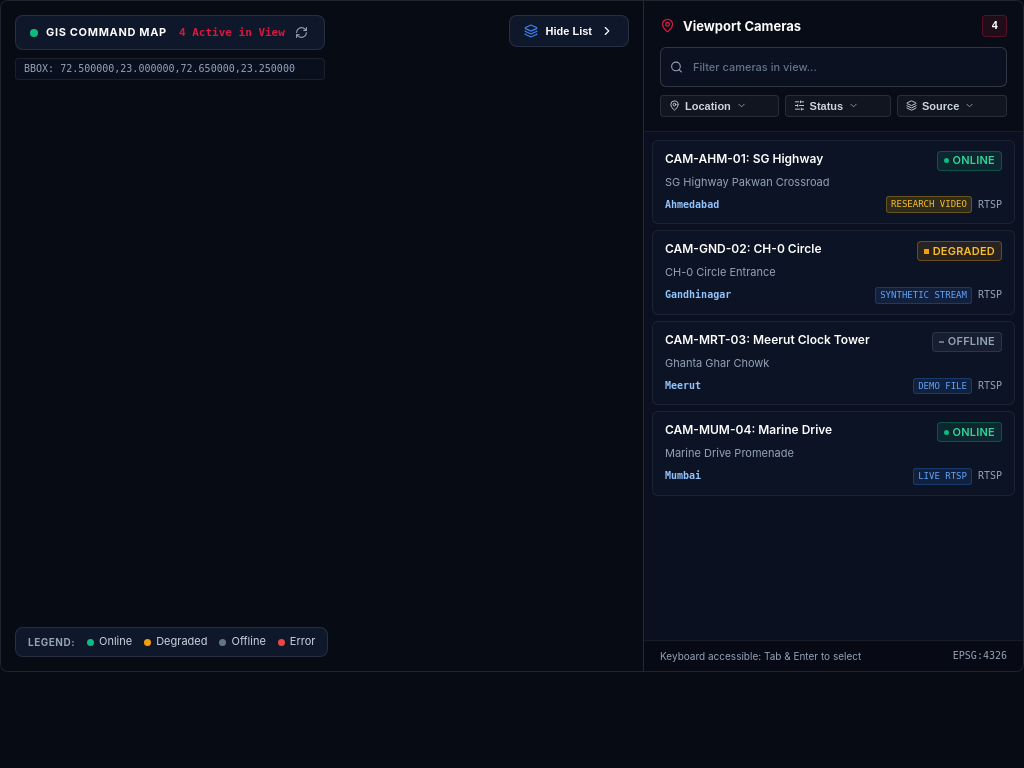
Test: GIS Camera Map Component (Phase 4B) › Scalable Dynamic Filter Architecture › filters dependent cities based on selected state
Check: the text "CAM-AHM-01: SG Highway" is shown, box [665, 151, 823, 166]
Open location dropdown
Click the button with id "gis-filter-dropdown-location" at [719, 106], box [660, 95, 779, 117]
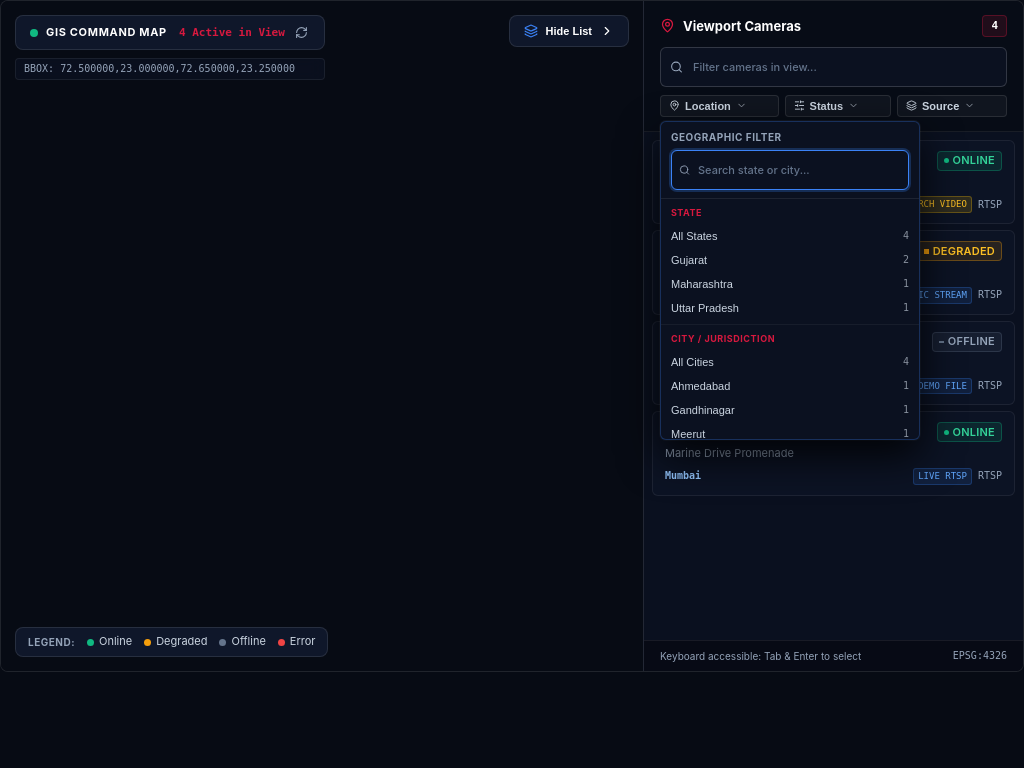
Select Uttar Pradesh
Click the button with id "gis-filter-state-uttar-pradesh" at [790, 308], box [661, 296, 919, 320]
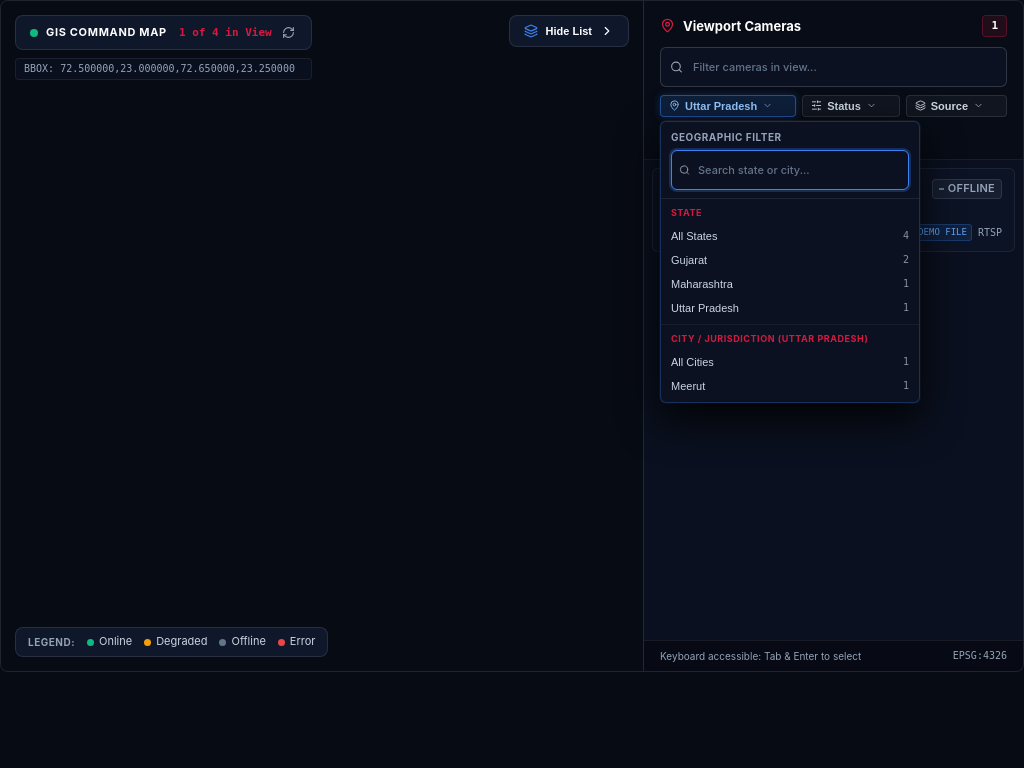
Check: the button with id "gis-filter-city-meerut" is shown, box [661, 374, 919, 398]
Check: the button with id "gis-filter-city-ahmedabad" is gone
Check: the text "CAM-MUM-04: Marine Drive" is gone
